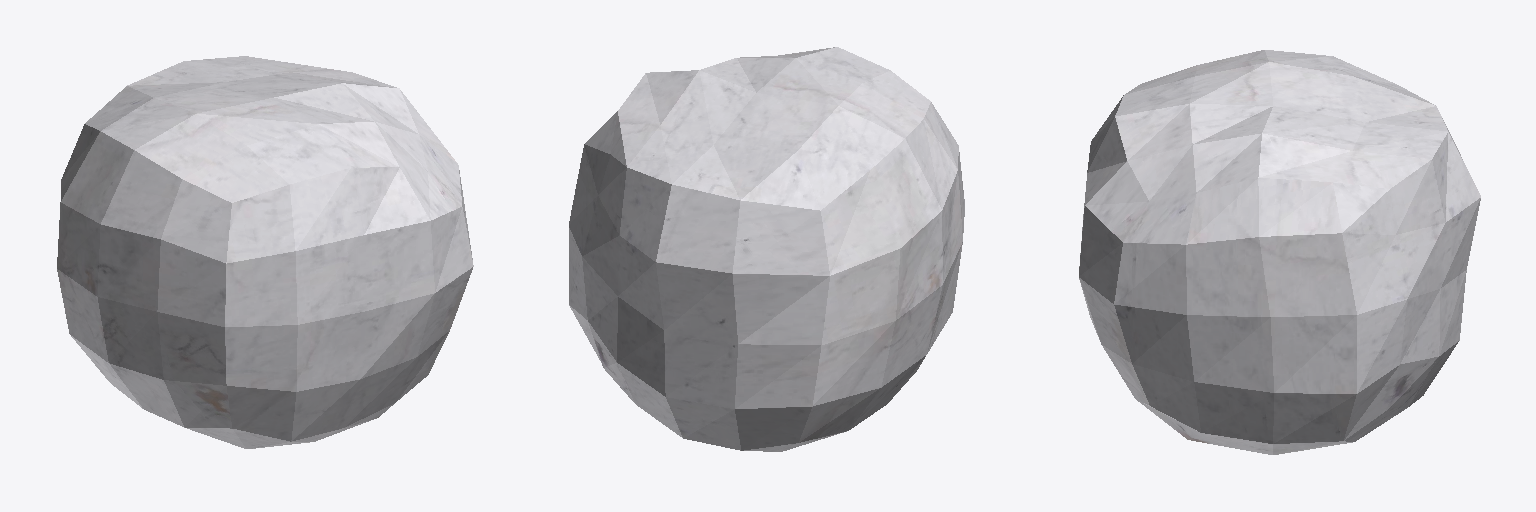
3 renders of one model, left to right at view 1: azimuth 30°, elevation 25°; view 2: azimuth 150°, elevation 25°; view 3: azimuth 270°, elevation 25°, orthographic.
Visible parts, largest first — view 1: Cube.001_Cube.002; view 2: Cube.001_Cube.002; view 3: Cube.001_Cube.002.
Boxes of the visible parts, x1=… form: Cube.001_Cube.002: x1=57, y1=56, x2=473, y2=448; Cube.001_Cube.002: x1=569, y1=47, x2=964, y2=451; Cube.001_Cube.002: x1=1079, y1=50, x2=1480, y2=454.
Size of the model in its own units: 0.8603 by 0.8 by 0.9.
Materials: 1 (1 with a texture image).